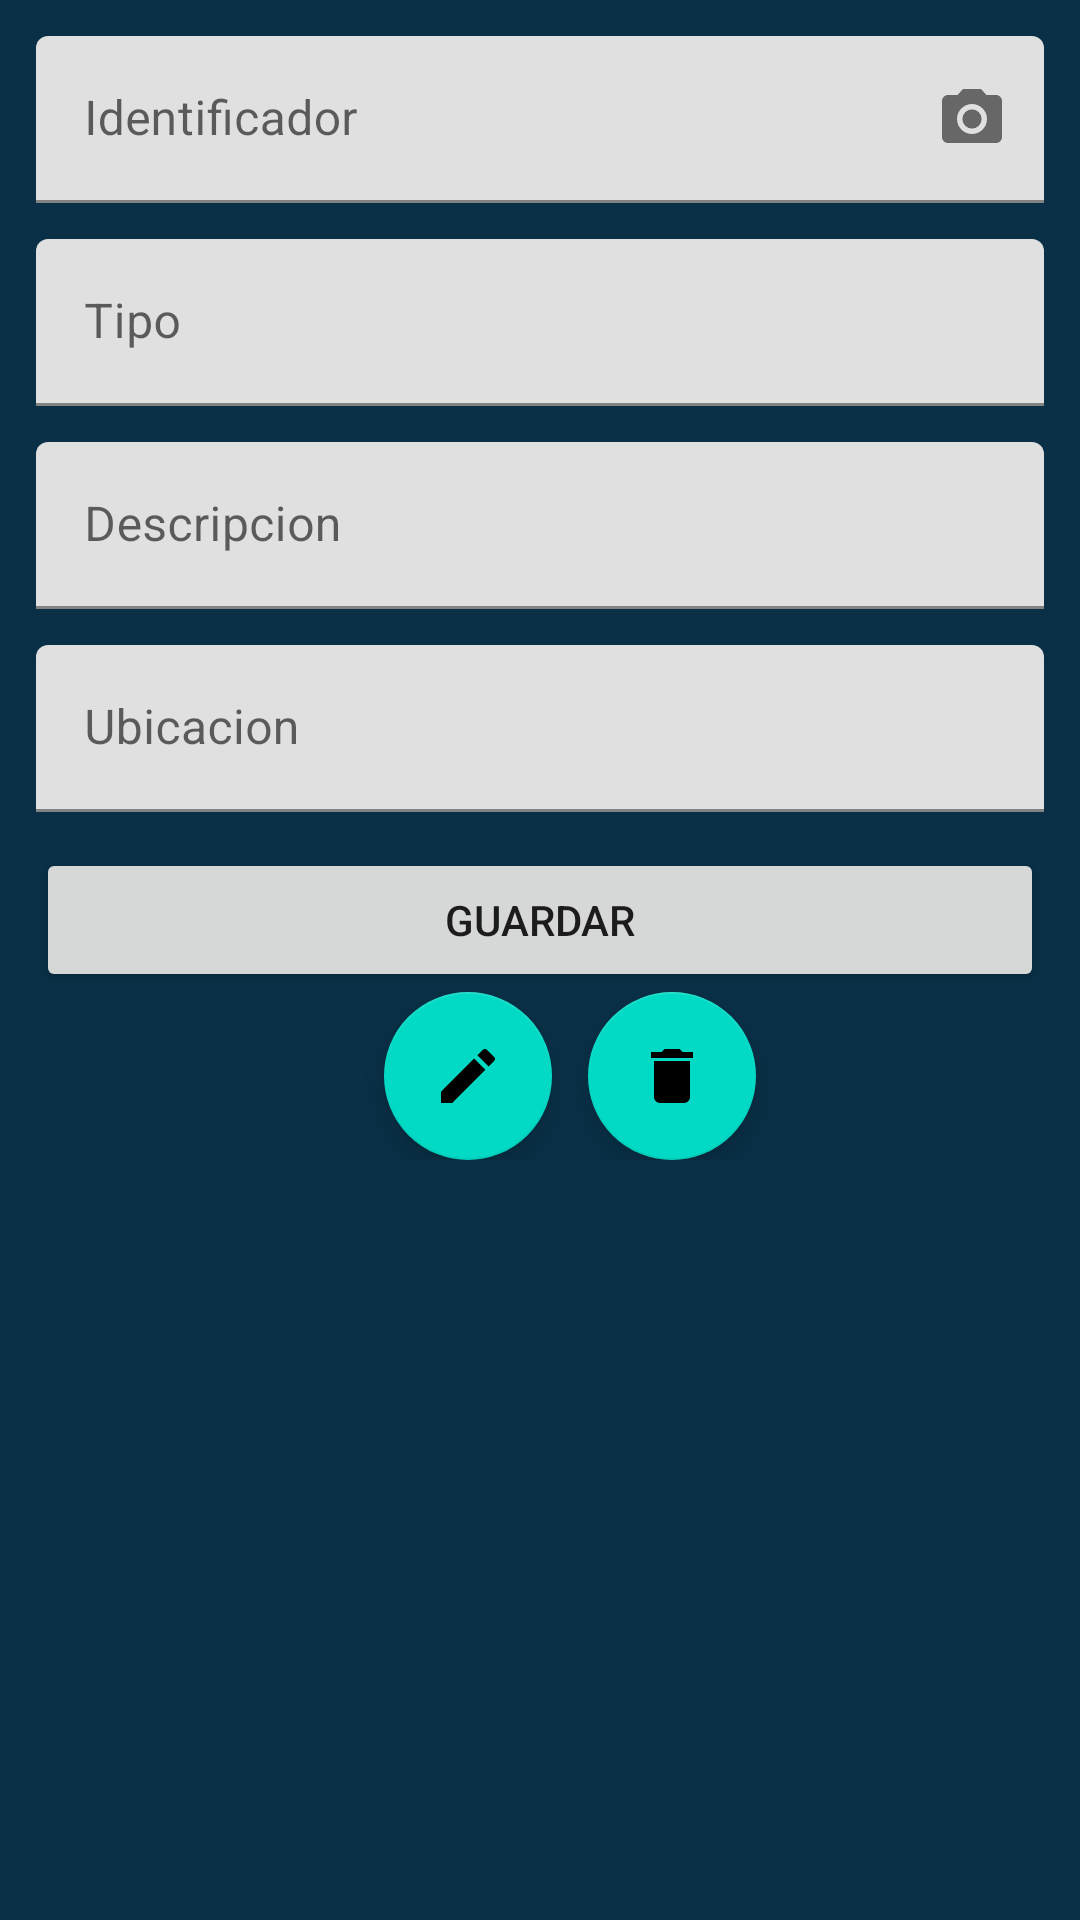

Where to tap for icons on this 1080 x 1920 app screen, as [x,y]:
delete: [672,1076]
edit: [468,1076]
